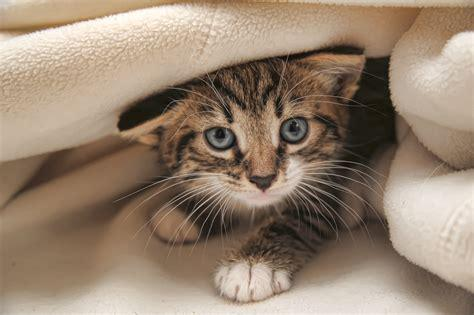cat: (118, 45, 394, 303)
